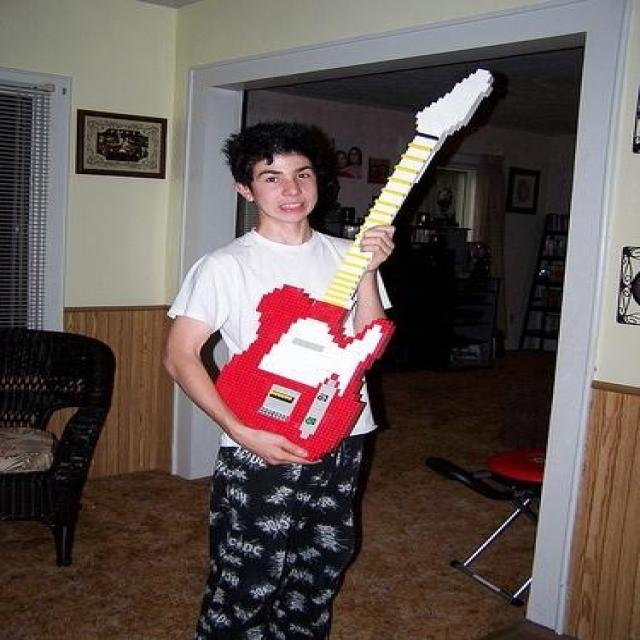guitar: (209, 64, 497, 468)
